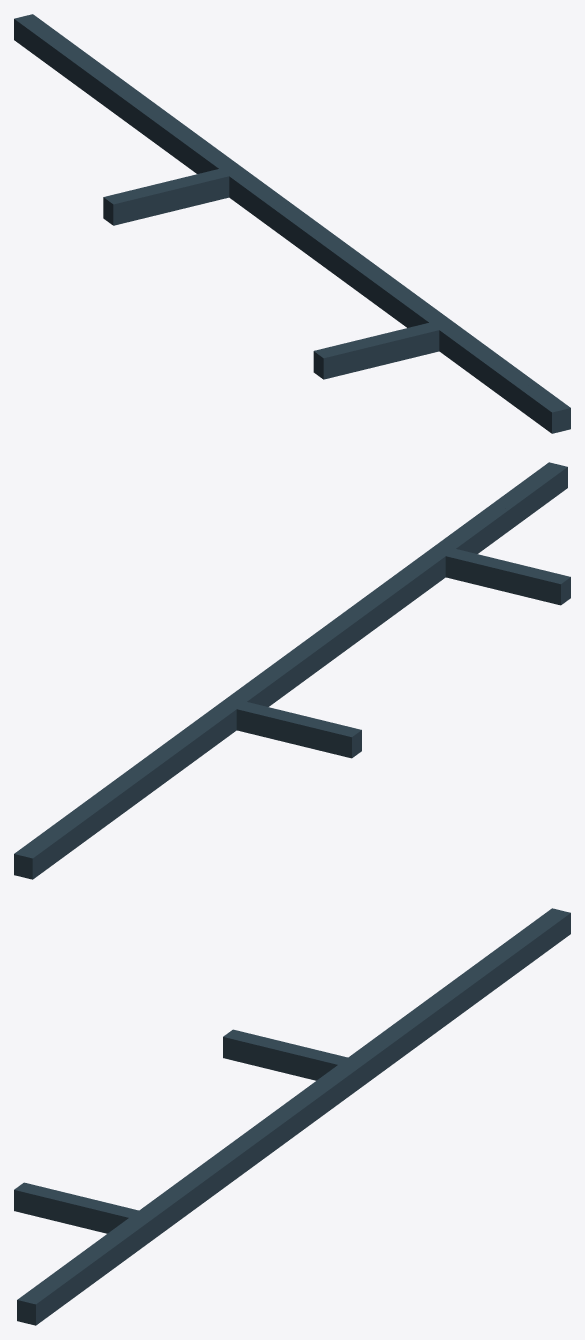
File: v02-transit-world-03-03-04.glb
3 views of the same model, one above another, from view 1: azimuth 30°, elevation 25°; view 2: azimuth 150°, elevation 25°; view 3: azimuth 330°, elevation 25° (orthographic).
Visible parts, largest first — view 1: v02-transit-world-03-03-04; view 2: v02-transit-world-03-03-04; view 3: v02-transit-world-03-03-04.
Boxes of the visible parts, box(x1,y1,x2,y2) form: v02-transit-world-03-03-04: box(14, 14, 570, 433); v02-transit-world-03-03-04: box(14, 462, 570, 879); v02-transit-world-03-03-04: box(14, 908, 570, 1325).
Size of the model in its own units: 9.25 by 1.4 by 63.99.
